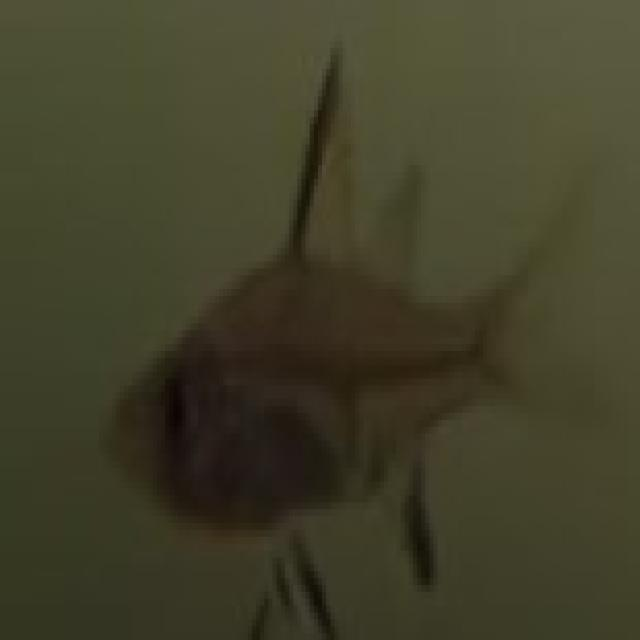Glass-Perchlet: (78, 31, 590, 640)
